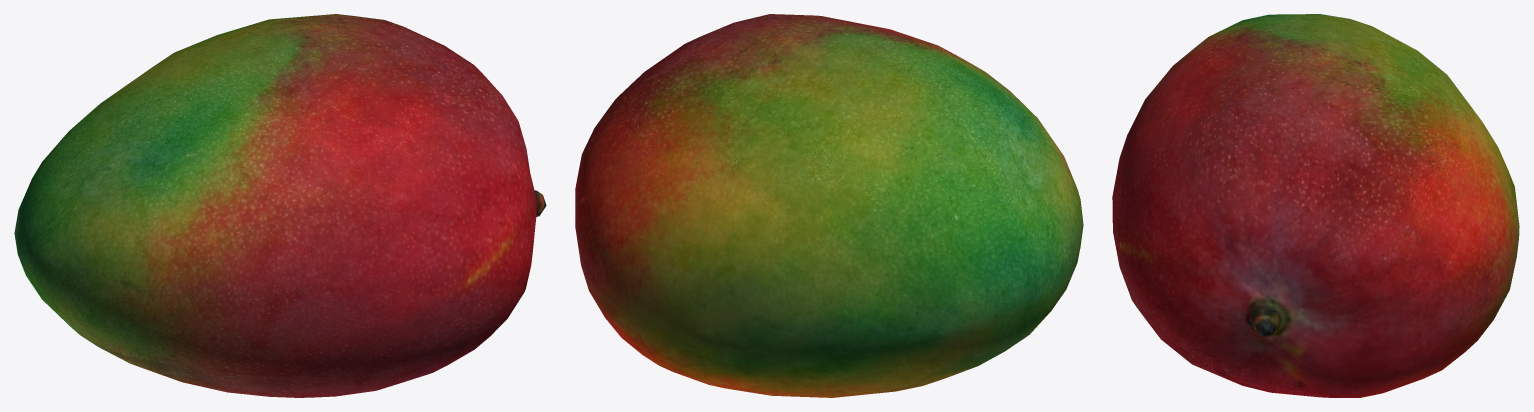
The picture shows the model from 3 angles, left to right: view 1: azimuth 30°, elevation 25°; view 2: azimuth 150°, elevation 25°; view 3: azimuth 270°, elevation 25°; orthographic projection. The views are drawn at different scales.
Parts seen in each view (by area): view 1: 44_mango; view 2: 44_mango; view 3: 44_mango.
Boxes of the visible parts, x1,y1,x2,y2 form: 44_mango: [14, 14, 546, 397]; 44_mango: [575, 14, 1083, 397]; 44_mango: [1112, 14, 1519, 397].
Bounding box in the file's own units: 1 × 0.6899 × 0.806.
1 material, 1 textured.
